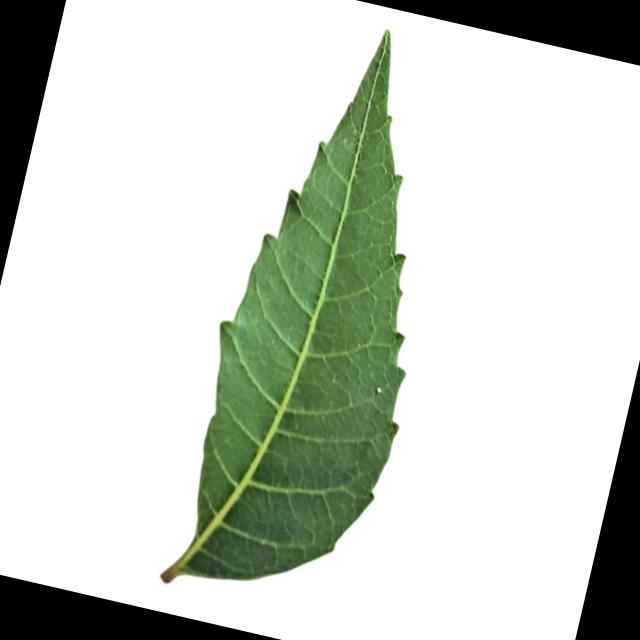Medicinal-Neem: (158, 4, 488, 628)
